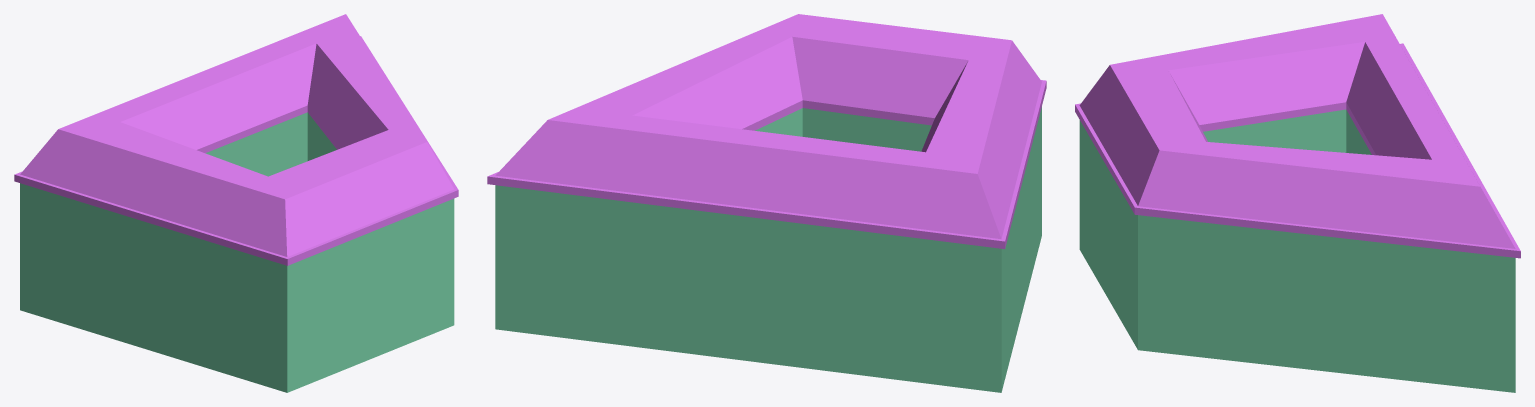
Rendered from Batiment8.fbx.
3 renders of one model, left to right at view 1: azimuth 30°, elevation 25°; view 2: azimuth 150°, elevation 25°; view 3: azimuth 270°, elevation 25°, orthographic. The views are drawn at different scales.
Visible parts, largest first — view 1: Batiment8; view 2: Batiment8; view 3: Batiment8.
Part boxes in pixels (box(x1,y1,x2,y2)): Batiment8: box(14, 14, 458, 392); Batiment8: box(487, 14, 1046, 392); Batiment8: box(1075, 14, 1520, 392).
Size of the model in its own units: 75.75 by 32.43 by 68.65.
